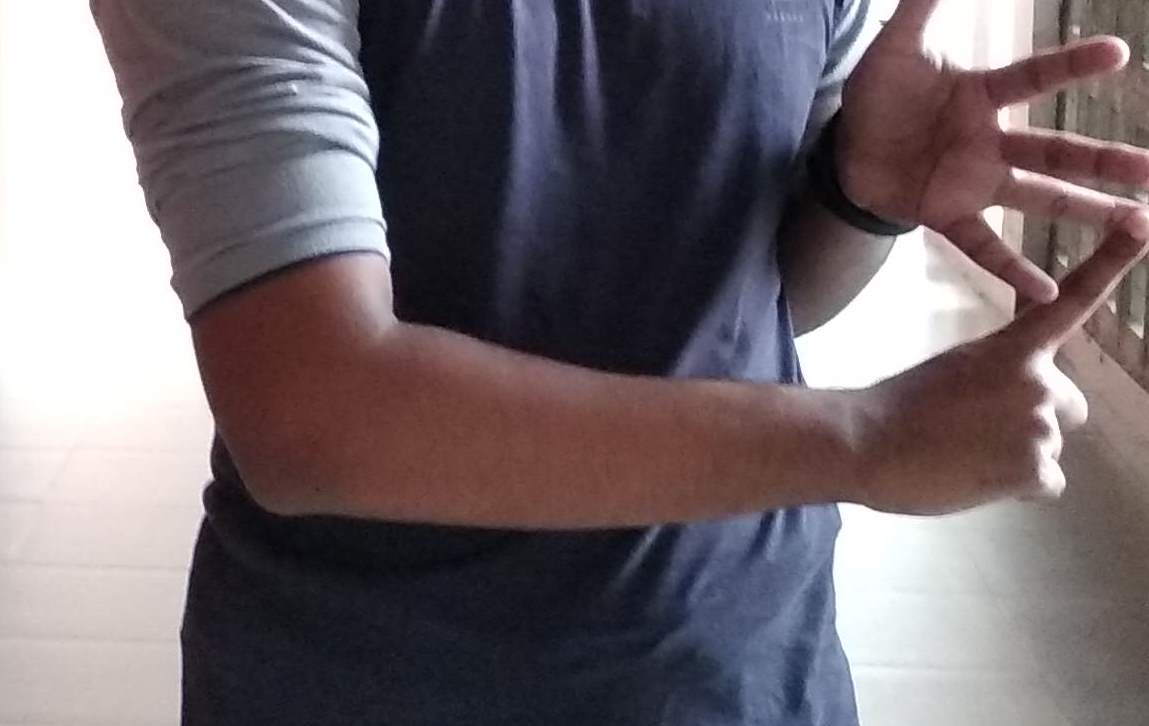e: (902, 43, 1149, 415)
